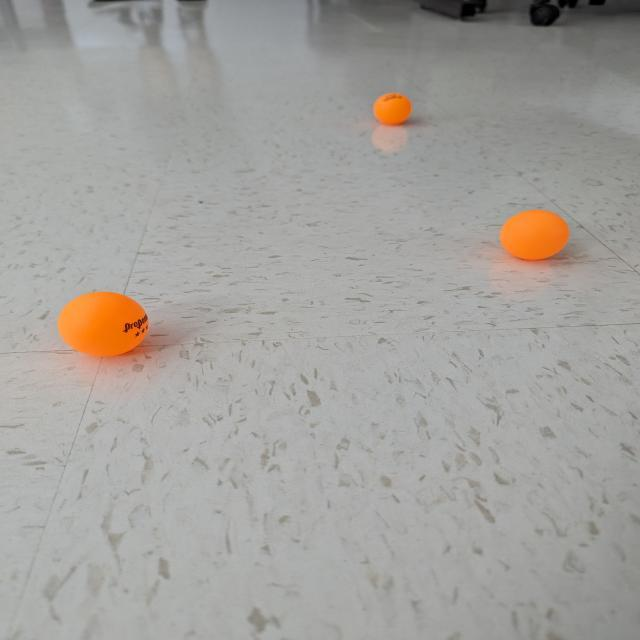ping-pong-ball: (54, 286, 156, 358), (498, 206, 570, 264), (370, 90, 414, 125)
